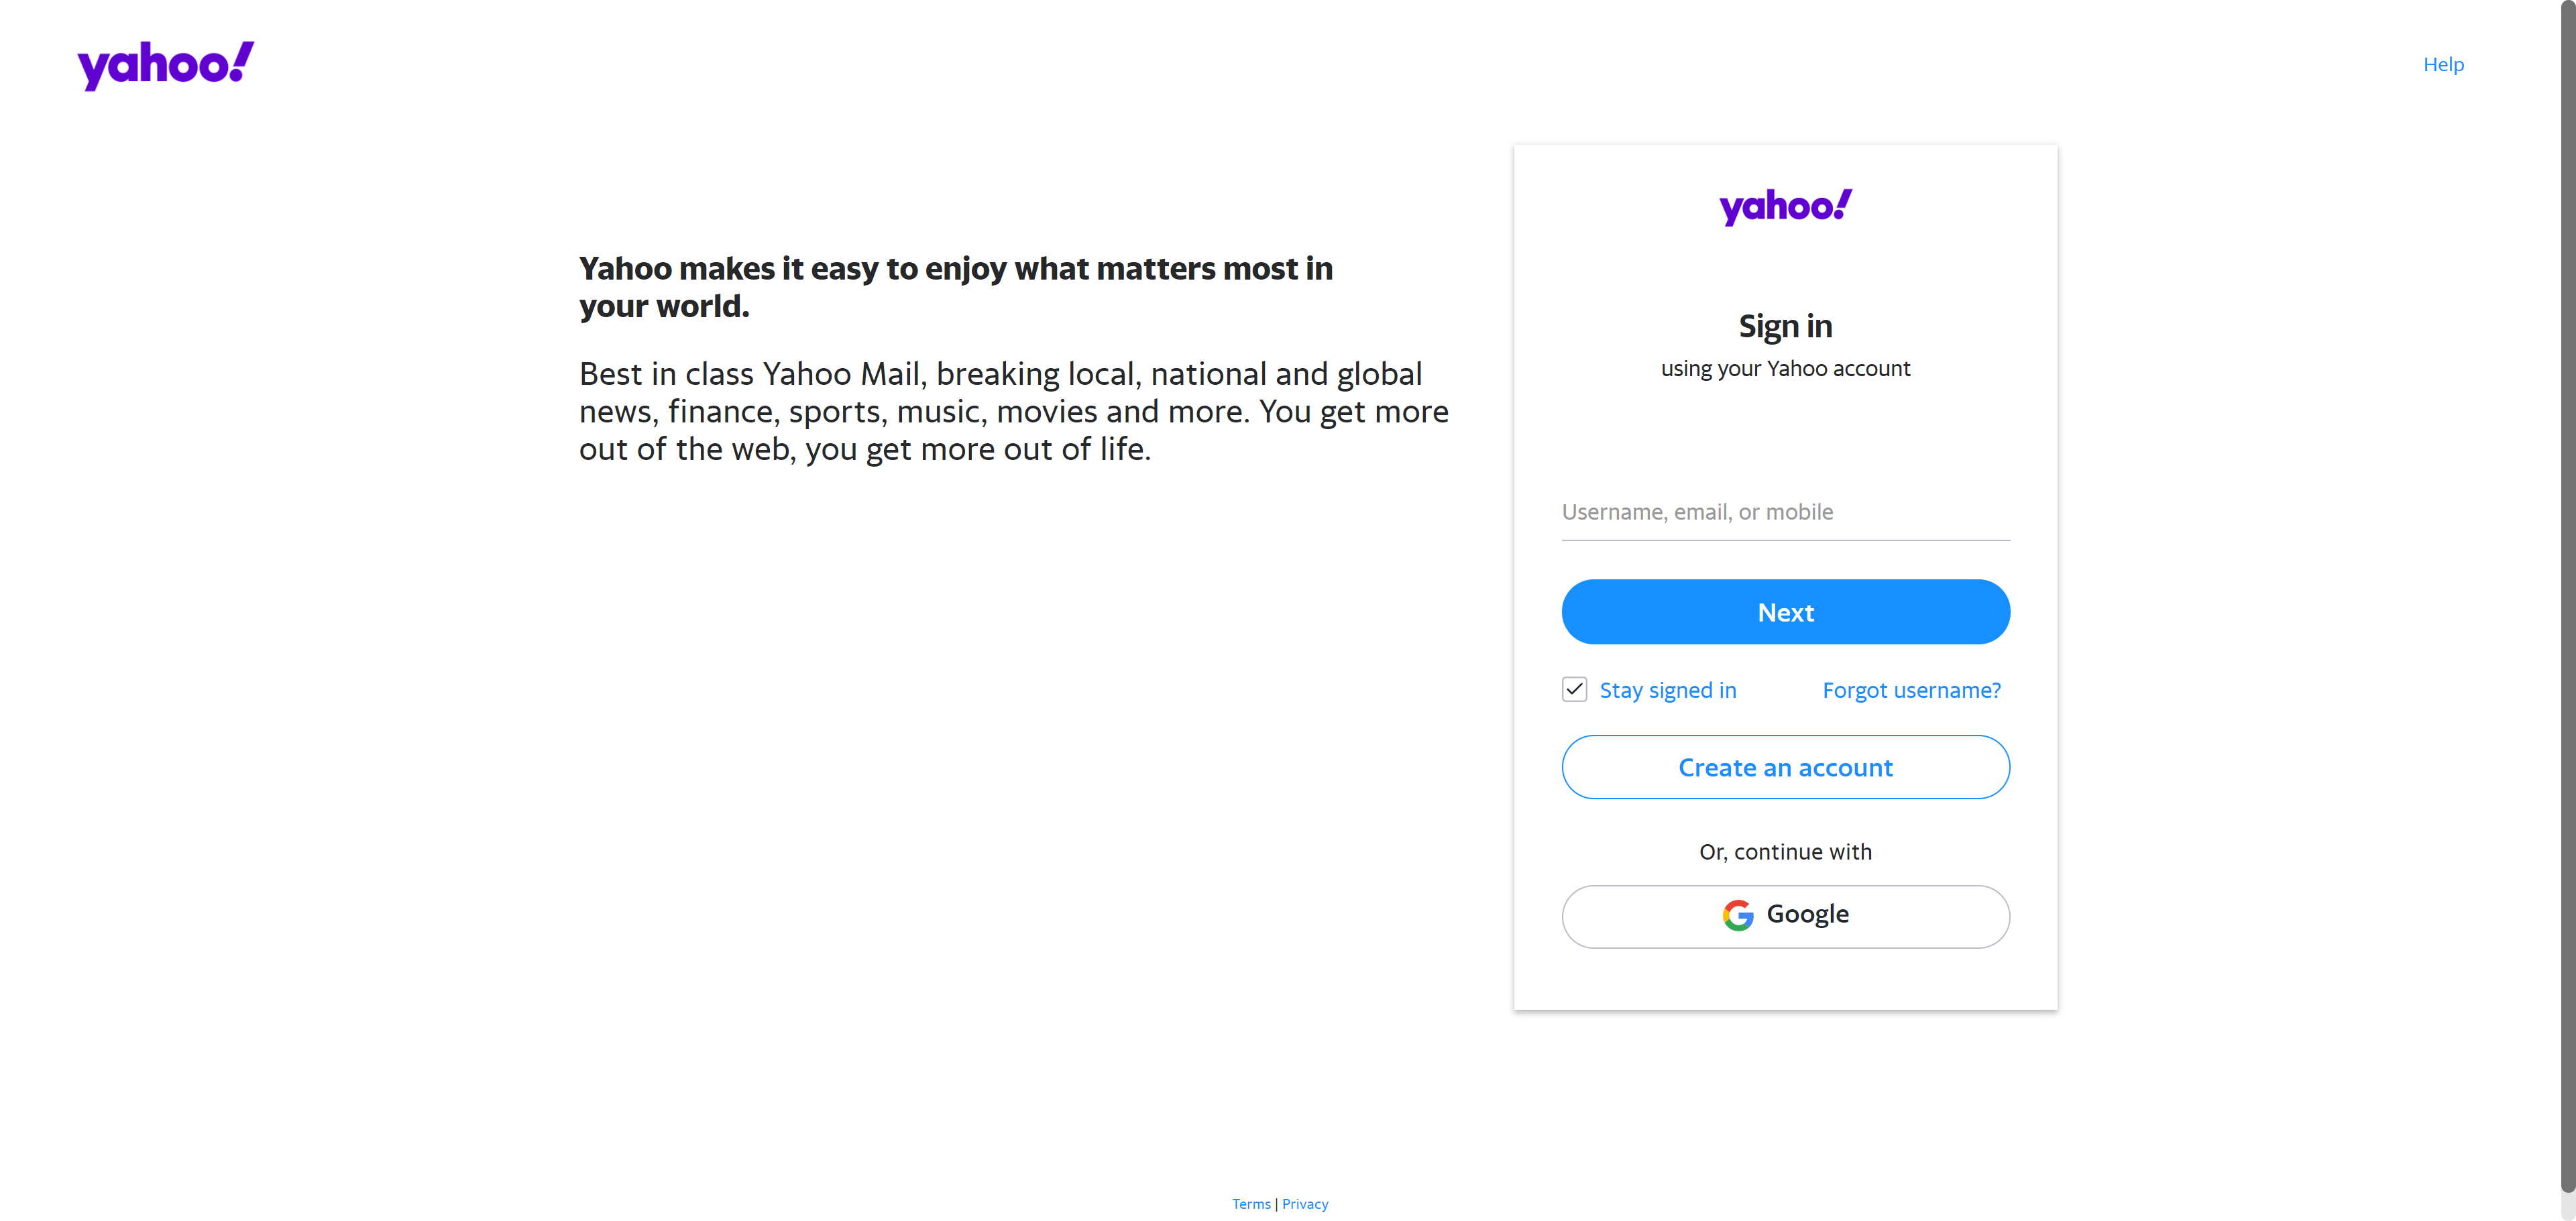login_button: (1562, 580, 2011, 644)
login_form: (1548, 481, 2026, 656)
